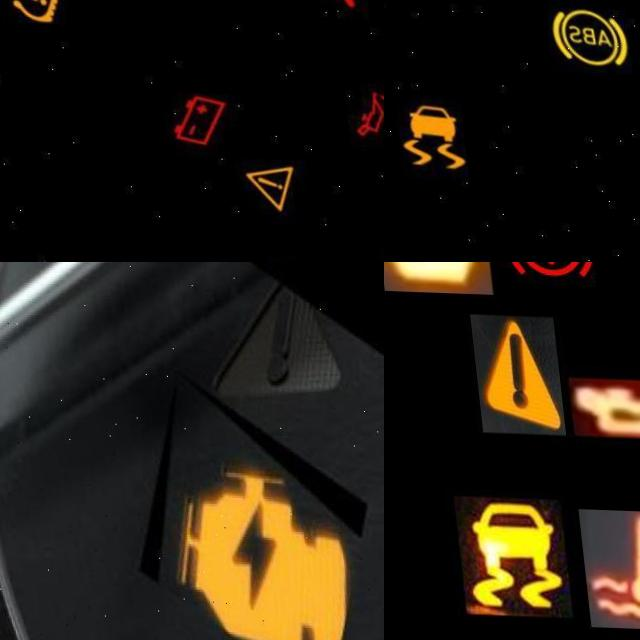Central Warning lamp: (465, 311, 559, 431)
Engine cooling system: (568, 505, 640, 626)
